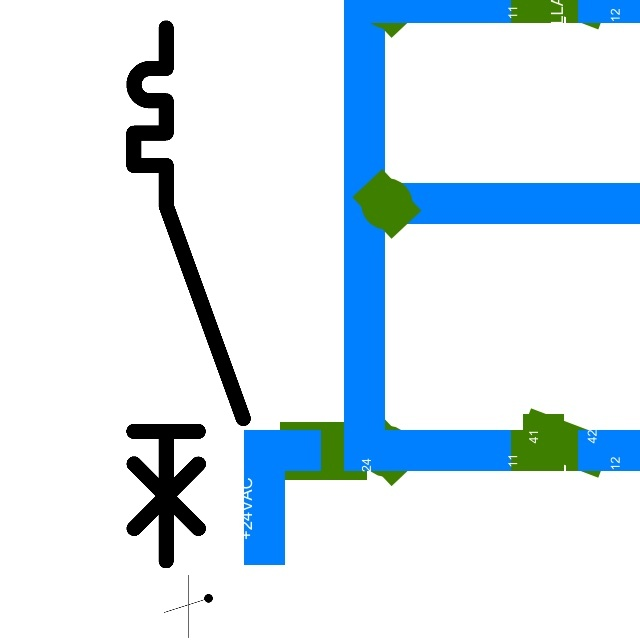interruptor_termomagnetico: (120, 14, 257, 574)
